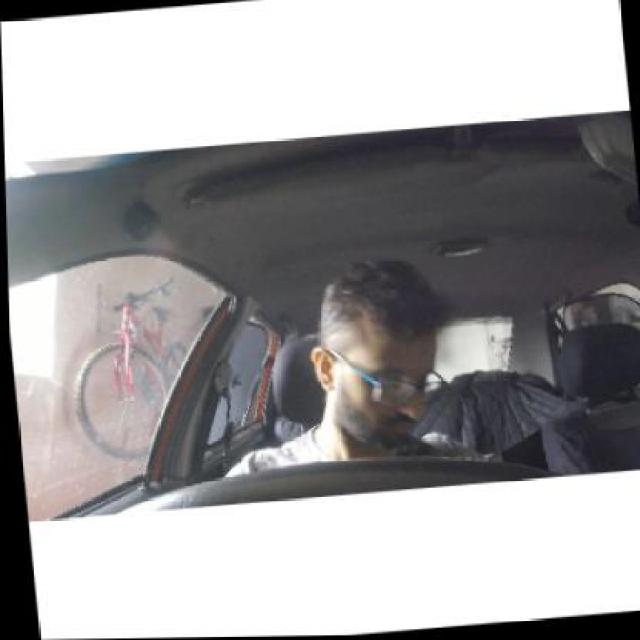drowsy: (311, 269, 446, 447)
